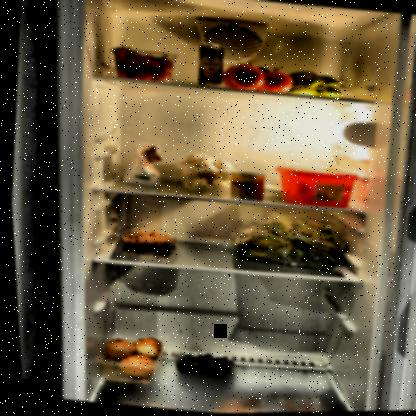banana: (281, 69, 344, 102)
blueberries: (161, 349, 235, 382)
butter: (266, 159, 363, 212)
corn: (226, 170, 265, 202)
green_beans: (233, 209, 347, 254)
heavy_cream: (195, 42, 225, 90)
mushrooms: (171, 152, 235, 195)
onion: (98, 333, 158, 381)
shrimp: (116, 227, 174, 251)
spinach: (226, 220, 341, 274)
strawberries: (105, 43, 182, 85)
tomato: (220, 57, 296, 97)
